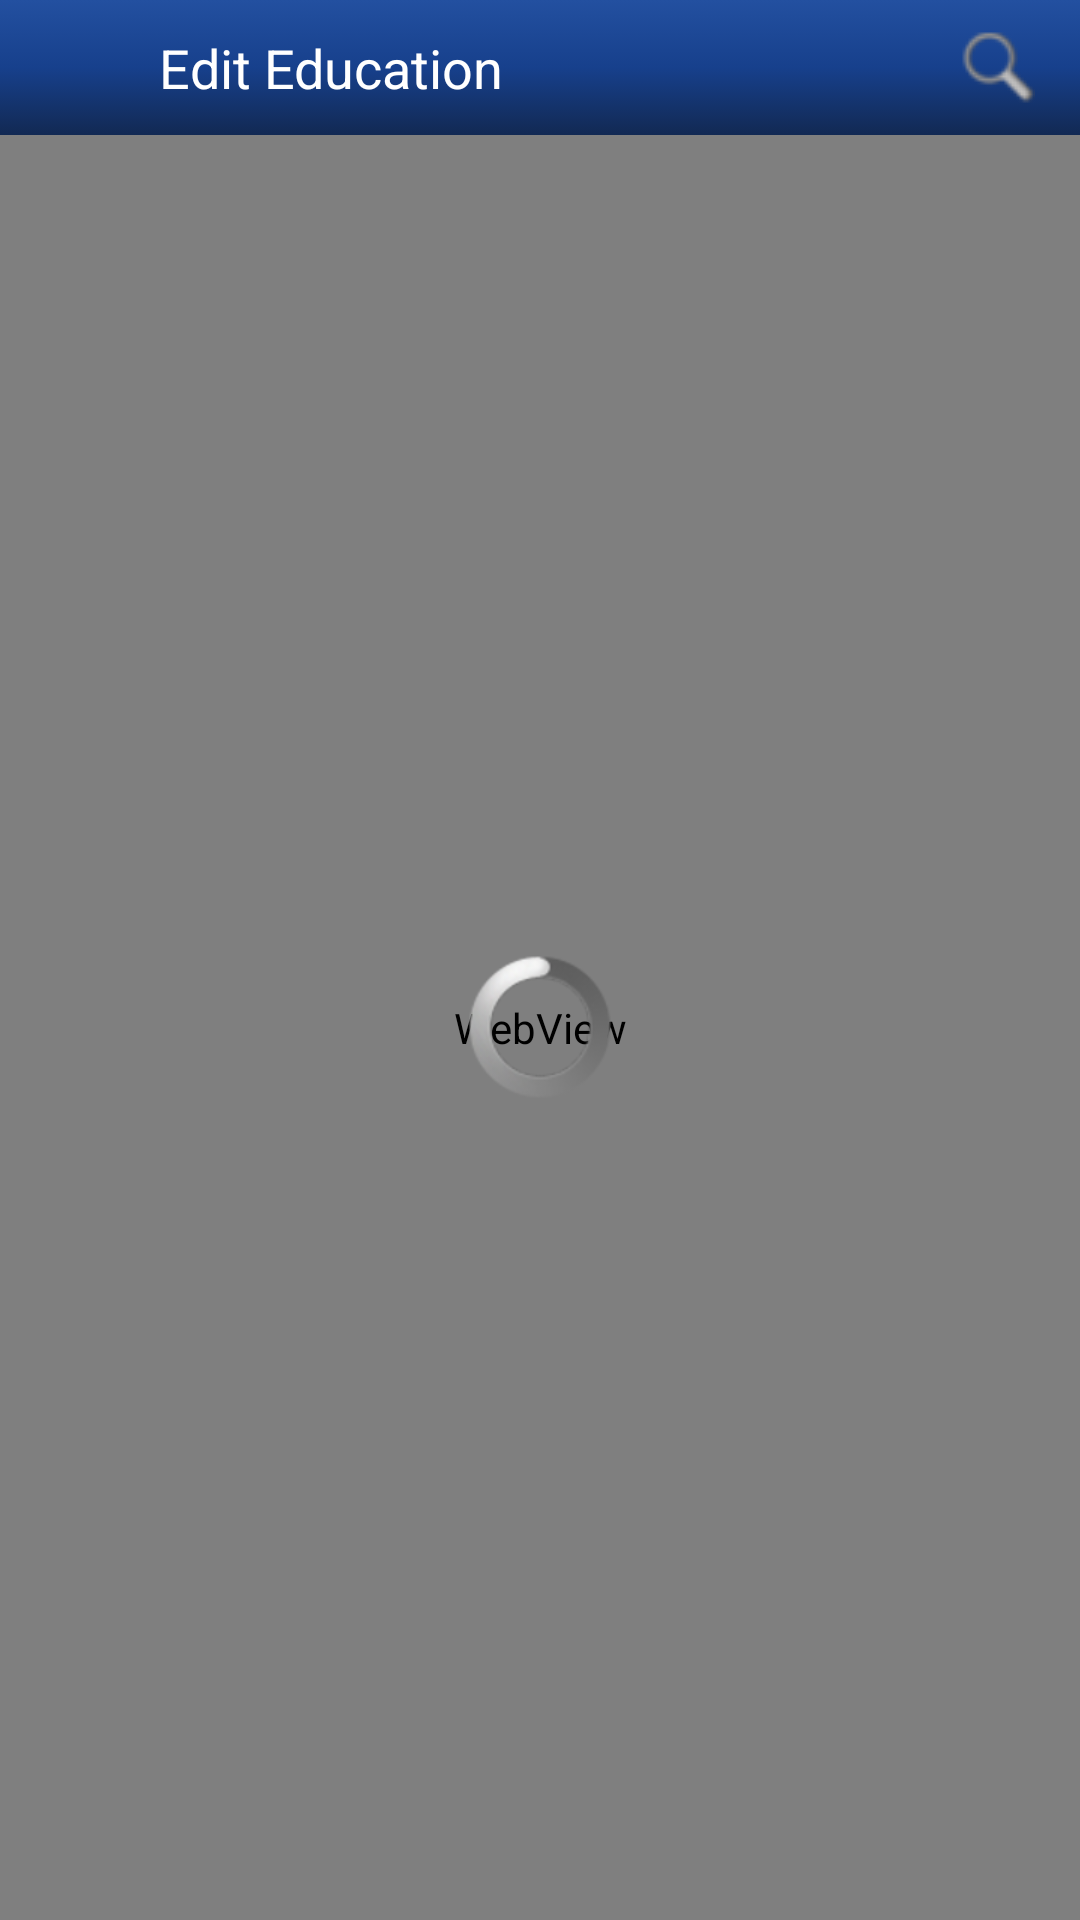

Screen size 1080px x 1920px. Icon name, then its center in pixels as (x=x, y=y):
search: (x=997, y=67)
